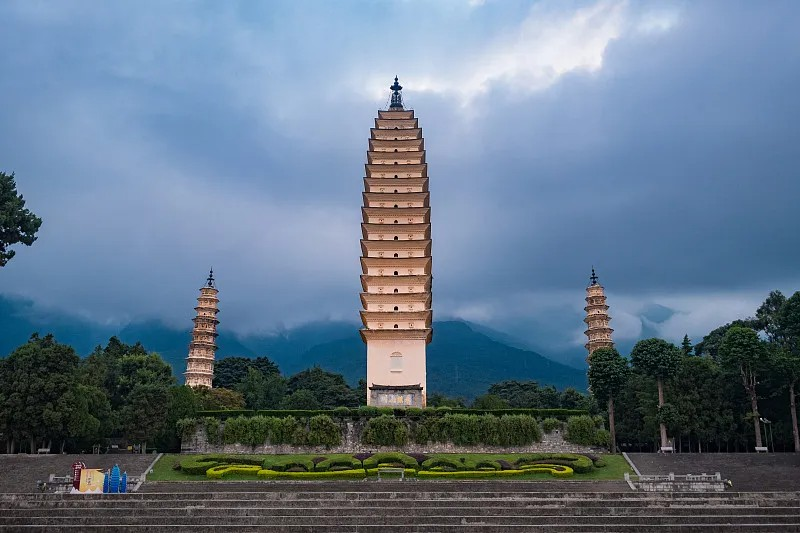ThreePagoda: (359, 76, 433, 409)
